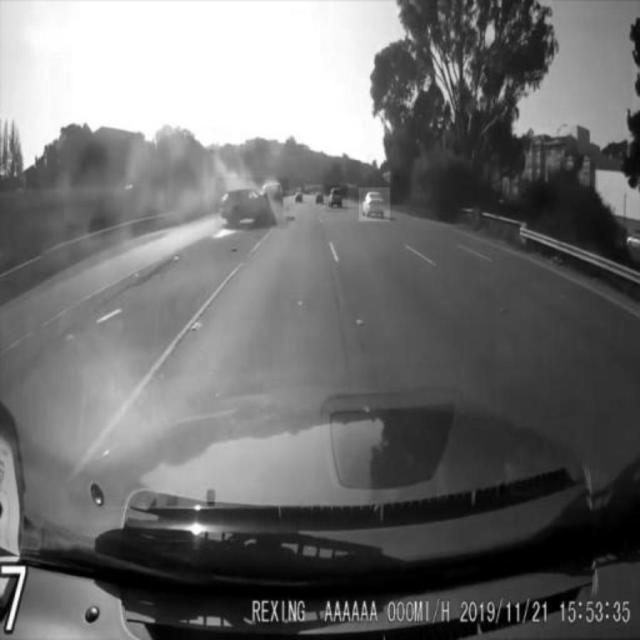accident: (215, 178, 288, 229)
vehicle: (359, 187, 389, 221), (326, 184, 348, 212)
